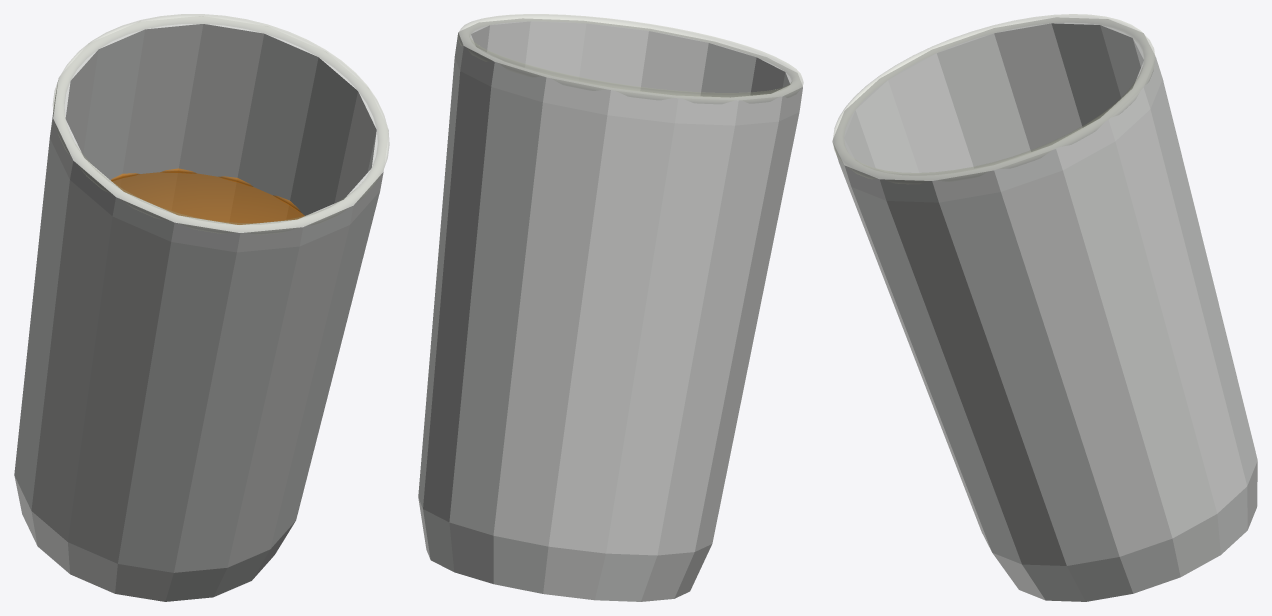
Rendered from rakia-default.glb.
The picture shows the model from 3 angles, left to right: view 1: azimuth 30°, elevation 25°; view 2: azimuth 150°, elevation 25°; view 3: azimuth 270°, elevation 25°; orthographic projection. The views are drawn at different scales.
Visible parts, largest first — view 1: Faceted heavy-bottom rakia glass, Rakia lip, rakia-default__Golden_rakia_liquid; view 2: Faceted heavy-bottom rakia glass, Rakia lip; view 3: Faceted heavy-bottom rakia glass, Rakia lip.
Boxes of the visible parts, x1,y1,x2,y2 form: Faceted heavy-bottom rakia glass: [14, 16, 388, 601]; Rakia lip: [53, 14, 389, 234]; rakia-default__Golden_rakia_liquid: [110, 168, 304, 224]; Faceted heavy-bottom rakia glass: [418, 18, 802, 601]; Rakia lip: [458, 14, 803, 103]; Faceted heavy-bottom rakia glass: [832, 17, 1257, 601]; Rakia lip: [833, 14, 1154, 183].
Size of the model in its own units: 0.068 by 0.1154 by 0.0859.
